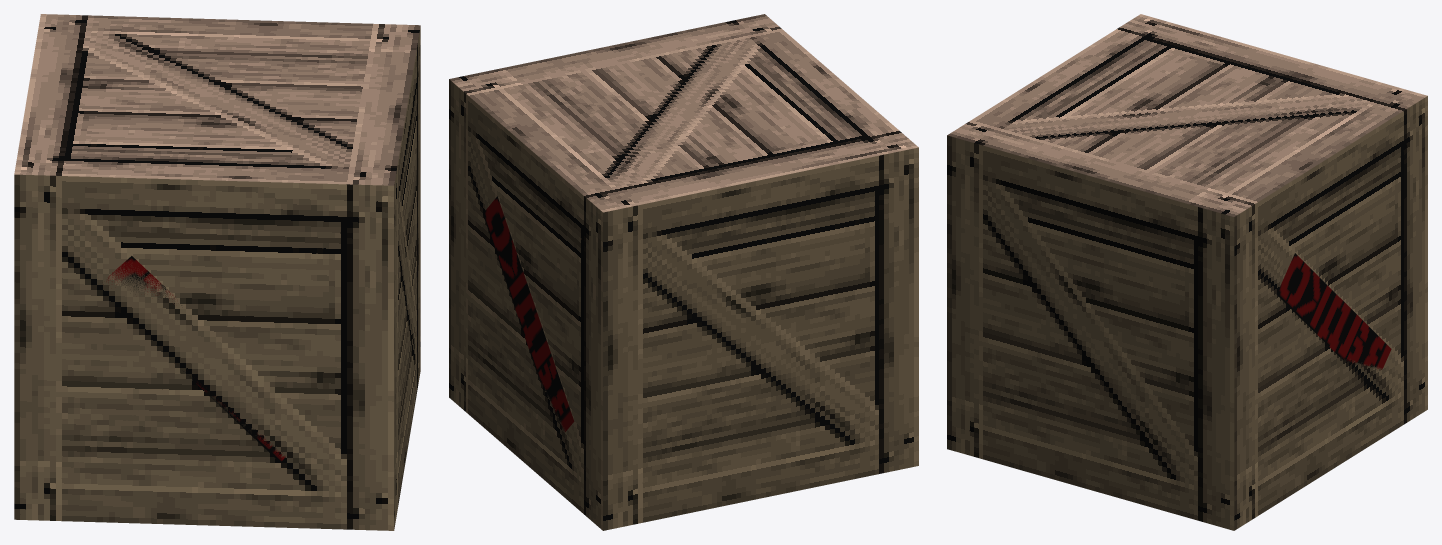
File: primary_081.glb
The picture shows the model from 3 angles, left to right: view 1: azimuth 30°, elevation 25°; view 2: azimuth 150°, elevation 25°; view 3: azimuth 270°, elevation 25°; orthographic projection. The views are drawn at different scales.
Parts seen in each view (by area): view 1: Object; view 2: Object; view 3: Object.
Boxes of the visible parts, x1,y1,x2,y2 form: Object: (14, 14, 420, 530); Object: (449, 14, 918, 530); Object: (947, 14, 1427, 530).
Bounding box in the file's own units: 1.32 × 0.9499 × 1.32.
7 materials, 7 textured.
